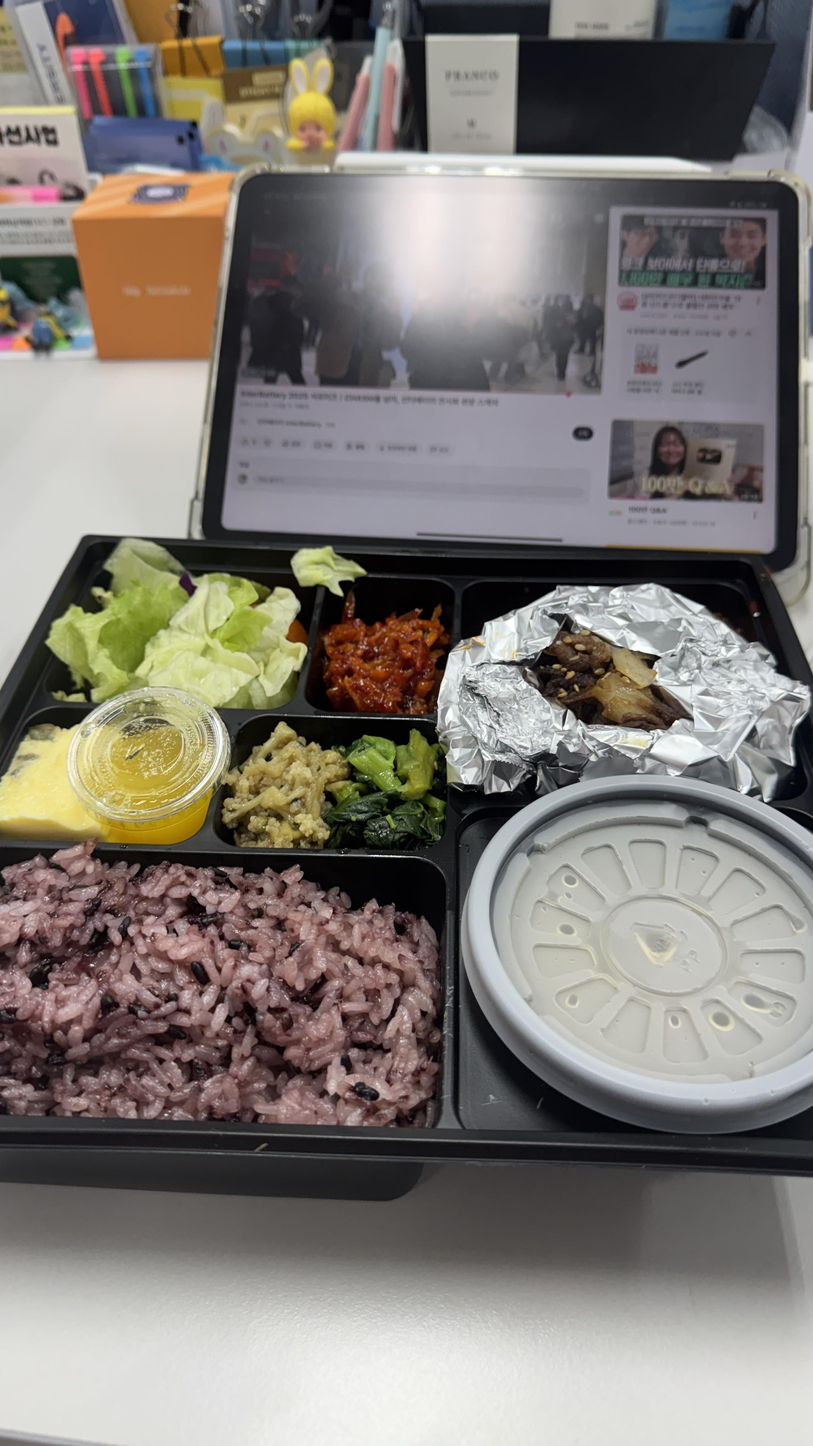Lunch Box: (0, 537, 813, 1200)
